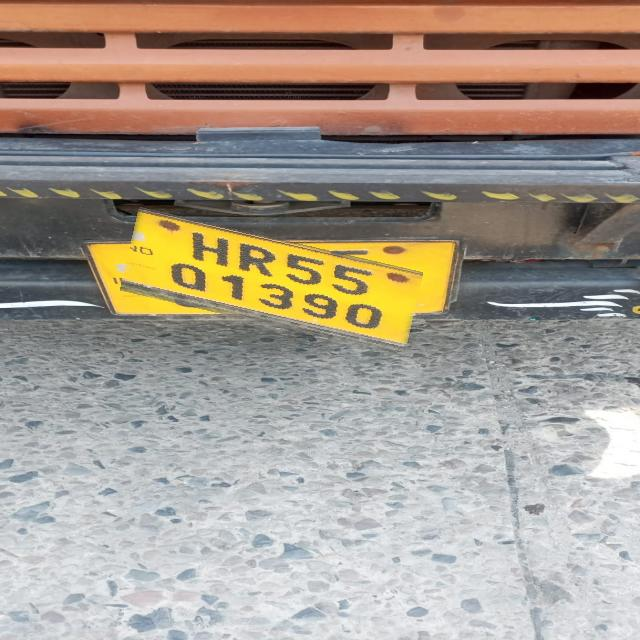License-plate: (123, 223, 421, 341)
